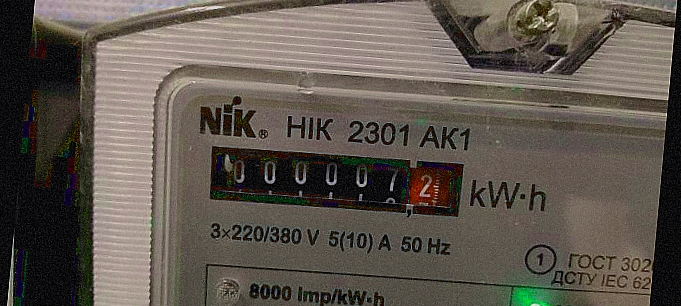0: (290, 158, 310, 187), (260, 157, 279, 187), (229, 157, 248, 185), (352, 161, 370, 190), (322, 159, 339, 187)
2: (416, 171, 434, 201)
7: (381, 164, 400, 195)
screen: (198, 132, 476, 228)
